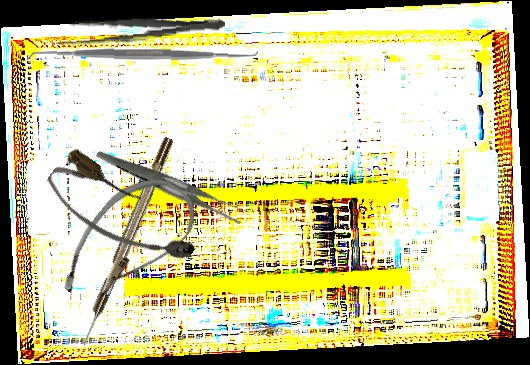Cannula: (48, 159, 207, 328), (38, 145, 203, 285)
Dressing Forceps: (95, 110, 250, 259), (54, 9, 226, 49)
Hook Surgical: (76, 136, 177, 348)
Spatula Surgical: (26, 39, 259, 71)
